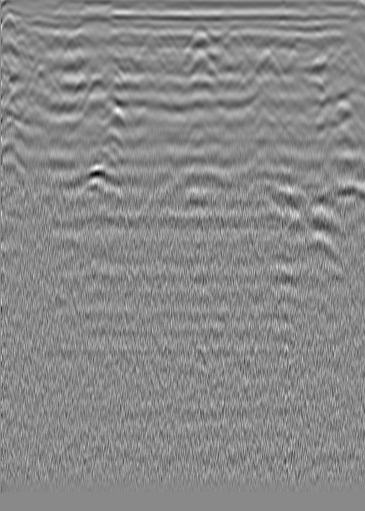가스: (70, 161, 120, 193)
상수: (326, 25, 346, 45)
오수: (45, 32, 65, 52)
우수: (189, 20, 209, 40)
